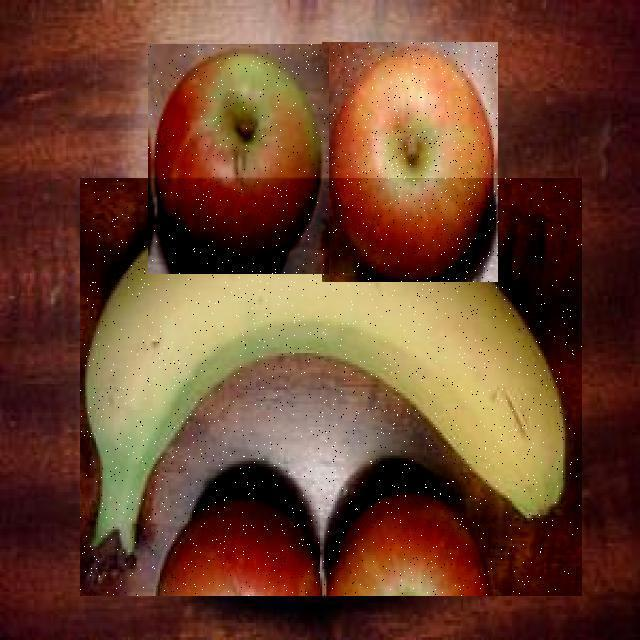Apple: (323, 42, 499, 282), (148, 44, 329, 274)
Banana: (80, 179, 582, 597)
